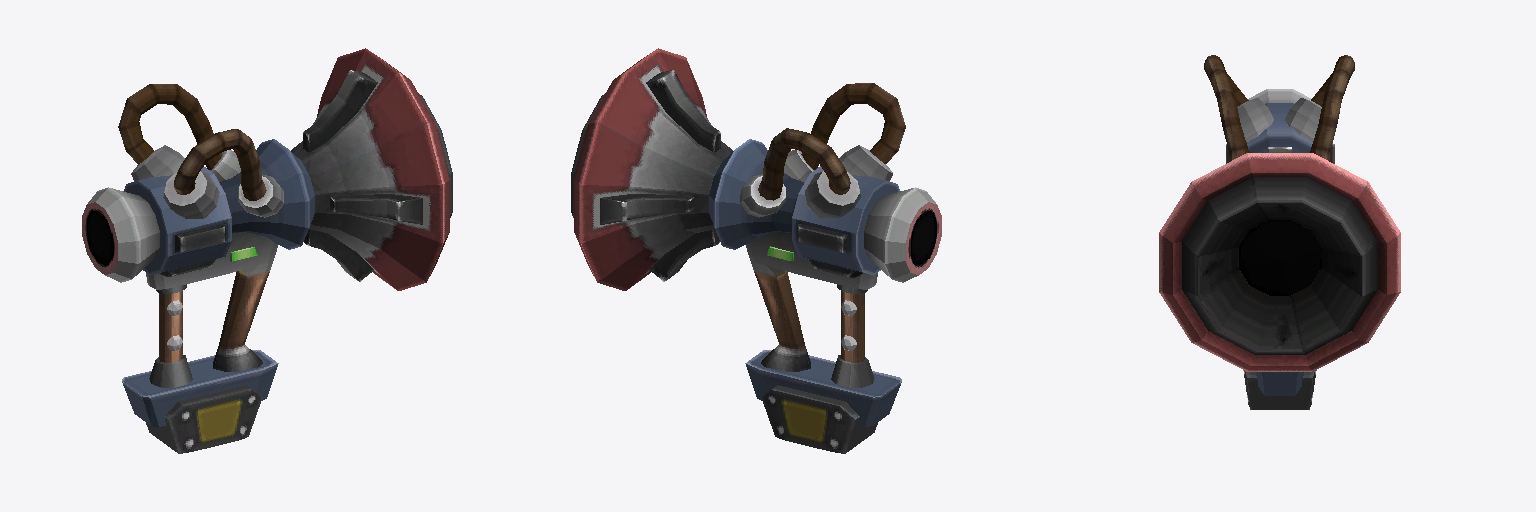
The picture shows the model from 3 angles: view 1: azimuth 30°, elevation 25°; view 2: azimuth 150°, elevation 25°; view 3: azimuth 270°, elevation 25°; orthographic projection.
Parts seen in each view (by area): view 1: Mesh0; view 2: Mesh0; view 3: Mesh0.
Part boxes in pixels (x1,y1,x2,y2): Mesh0: (82, 48, 452, 453); Mesh0: (571, 48, 941, 453); Mesh0: (1159, 55, 1400, 409).
Size of the model in its own units: 26.55 by 26.86 by 17.86.
Materials: 1 (1 with a texture image).